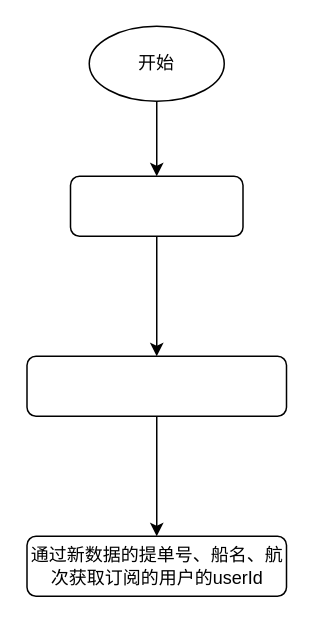
Image size: 312x623. Some labels were removed from this diagram. The centre of each missing label's shape, as x and y in pixels:
监听Mq获取消息: the point at 156,205
通过新数据的提单号、船名、航次获取订阅的用户的信息: the point at 156,385
